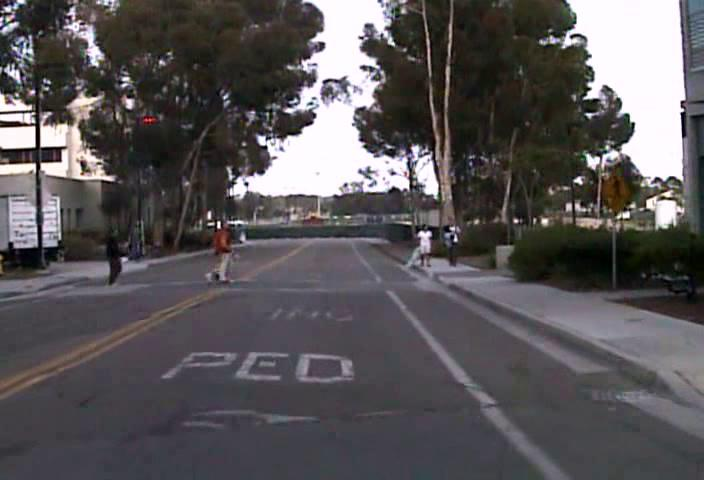pedestrianCrossing: (599, 170, 632, 211)
